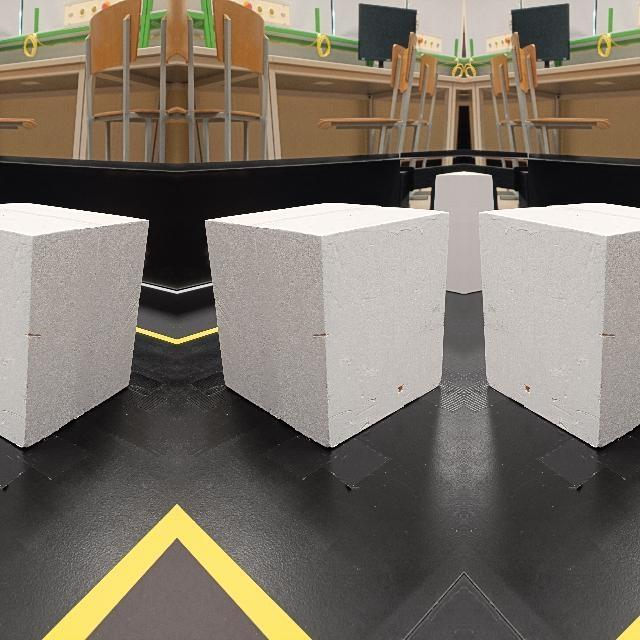obstacle: (204, 203, 452, 452), (476, 202, 640, 451), (0, 202, 148, 451)
